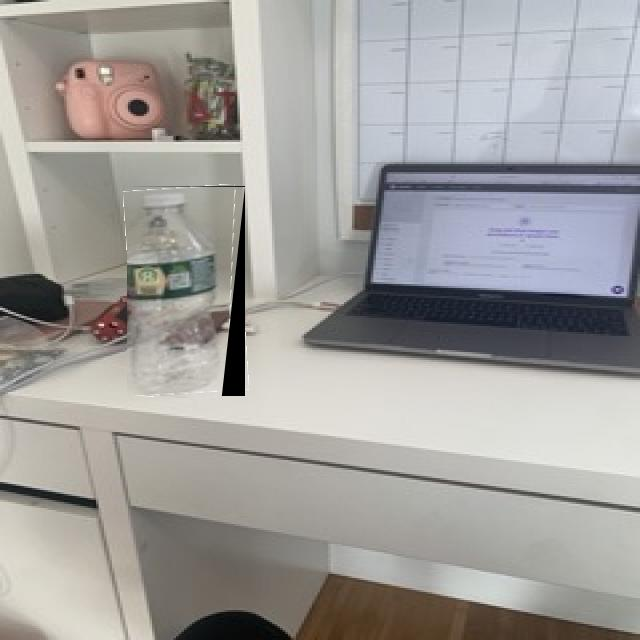water_bottle: (127, 186, 245, 396)
